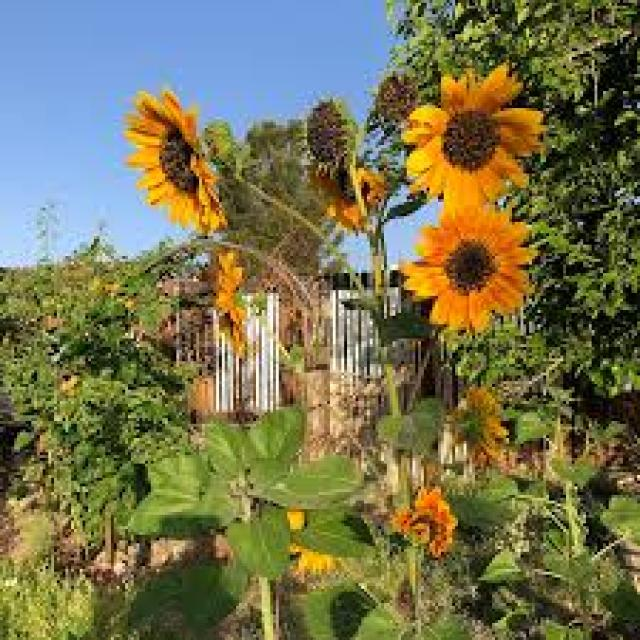sunflower: (390, 61, 553, 208), (394, 193, 540, 338), (120, 84, 239, 250), (443, 379, 516, 479), (389, 479, 473, 562), (295, 92, 356, 188), (320, 152, 389, 230), (206, 236, 252, 351), (361, 59, 422, 139)
